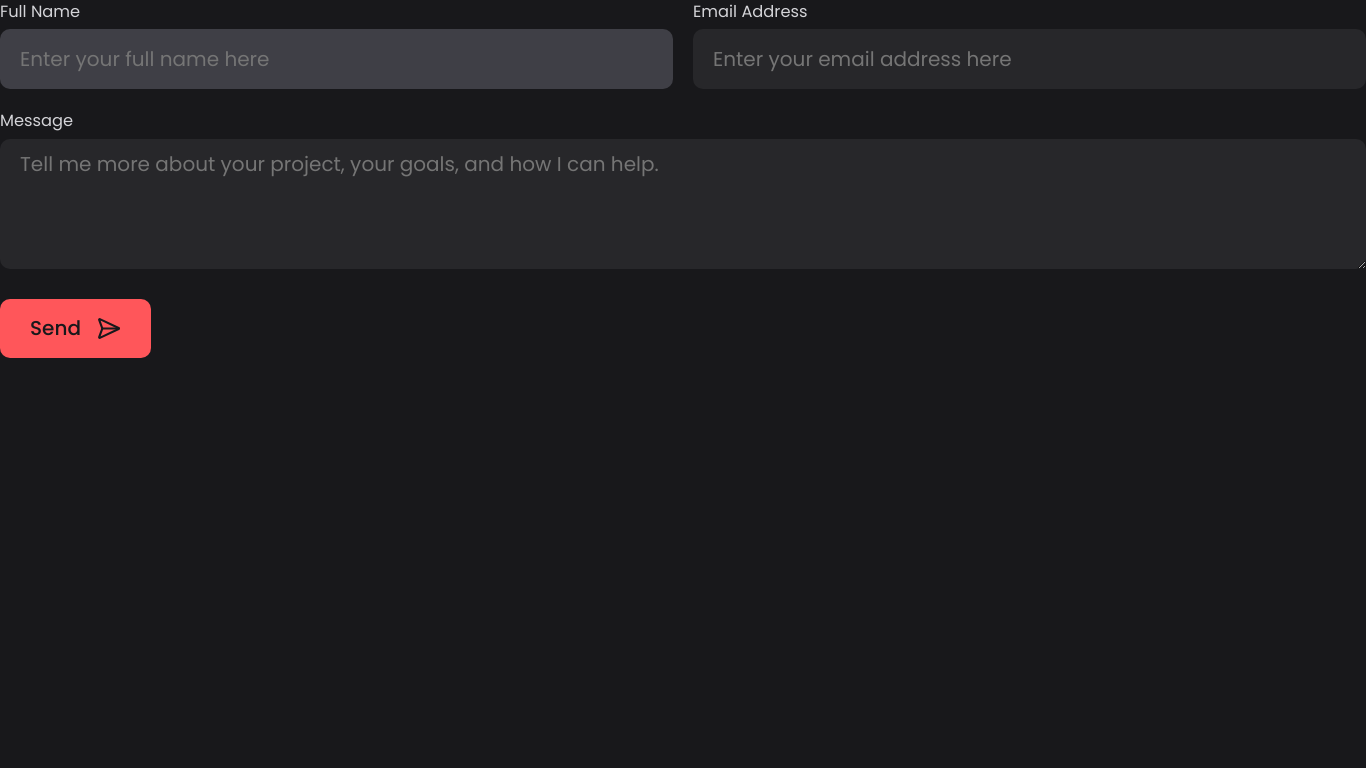
it: <MessageForm/> › shows error banner after failed submission
The image size is (1366, 768).
Type "John Doe" into the field labelled "Full Name".
click(336, 59); type("John Doe")  # box left=0, top=29, right=673, bottom=89
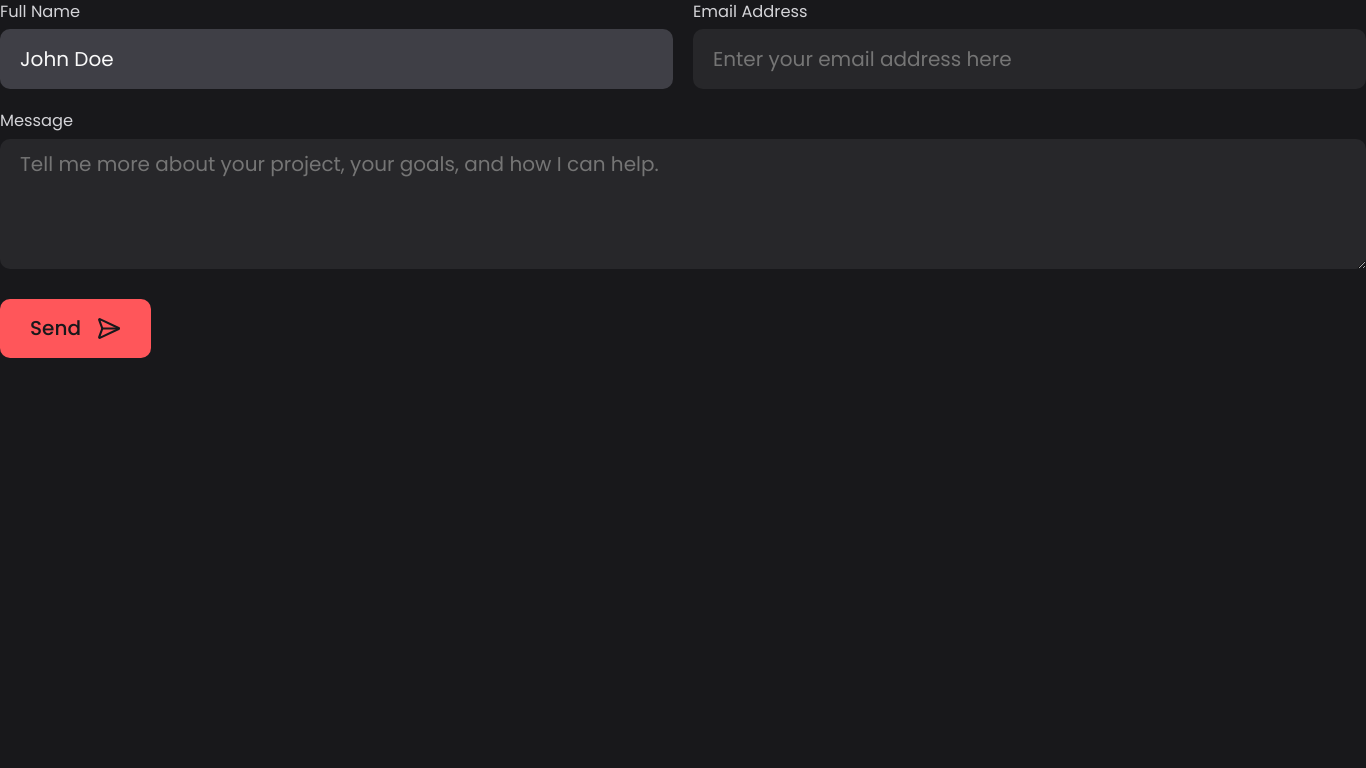
Type "john@example.com" into the field labelled "Email Address".
click(1030, 59); type("john@example.com")  # box left=693, top=29, right=1365, bottom=89
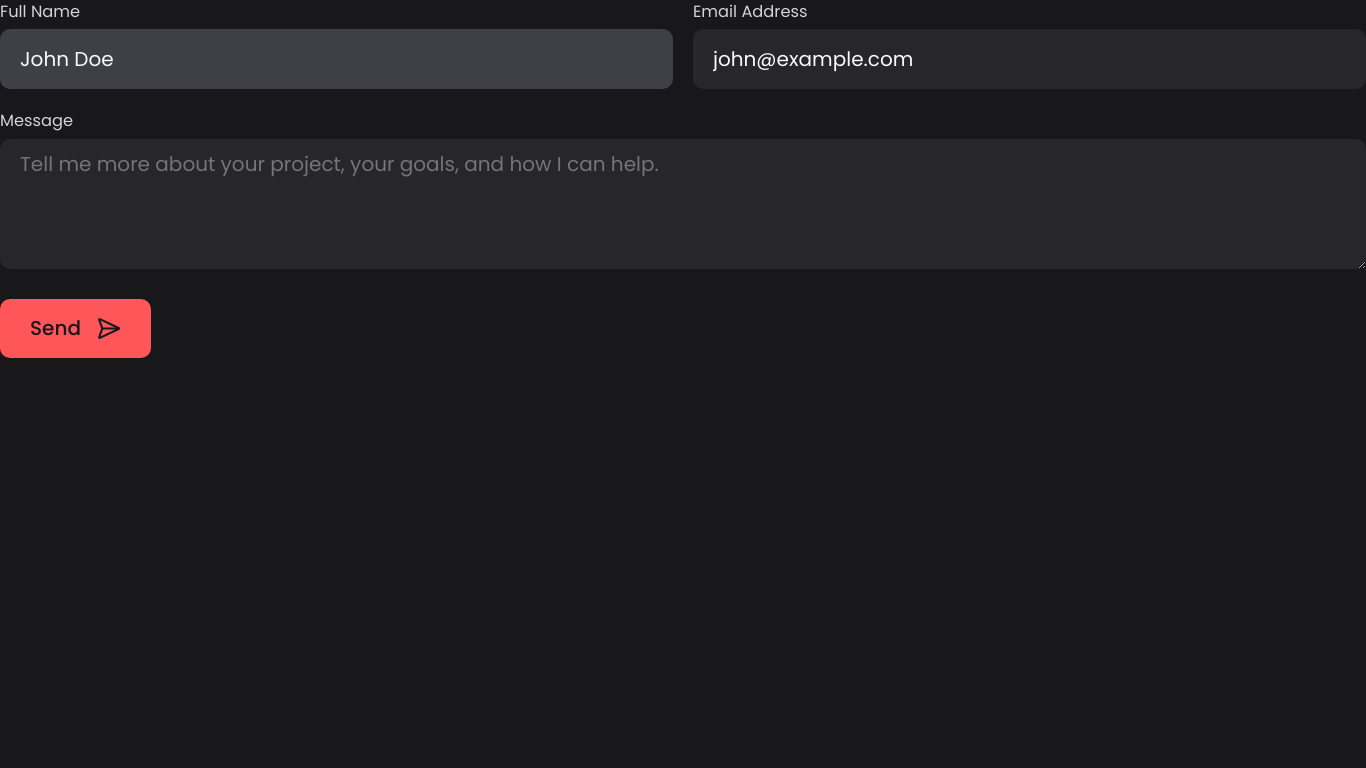
Replace the text in the text box labelled "Message" with "Hello, world!" at coordinates (683, 204), box left=0, top=139, right=1365, bottom=269
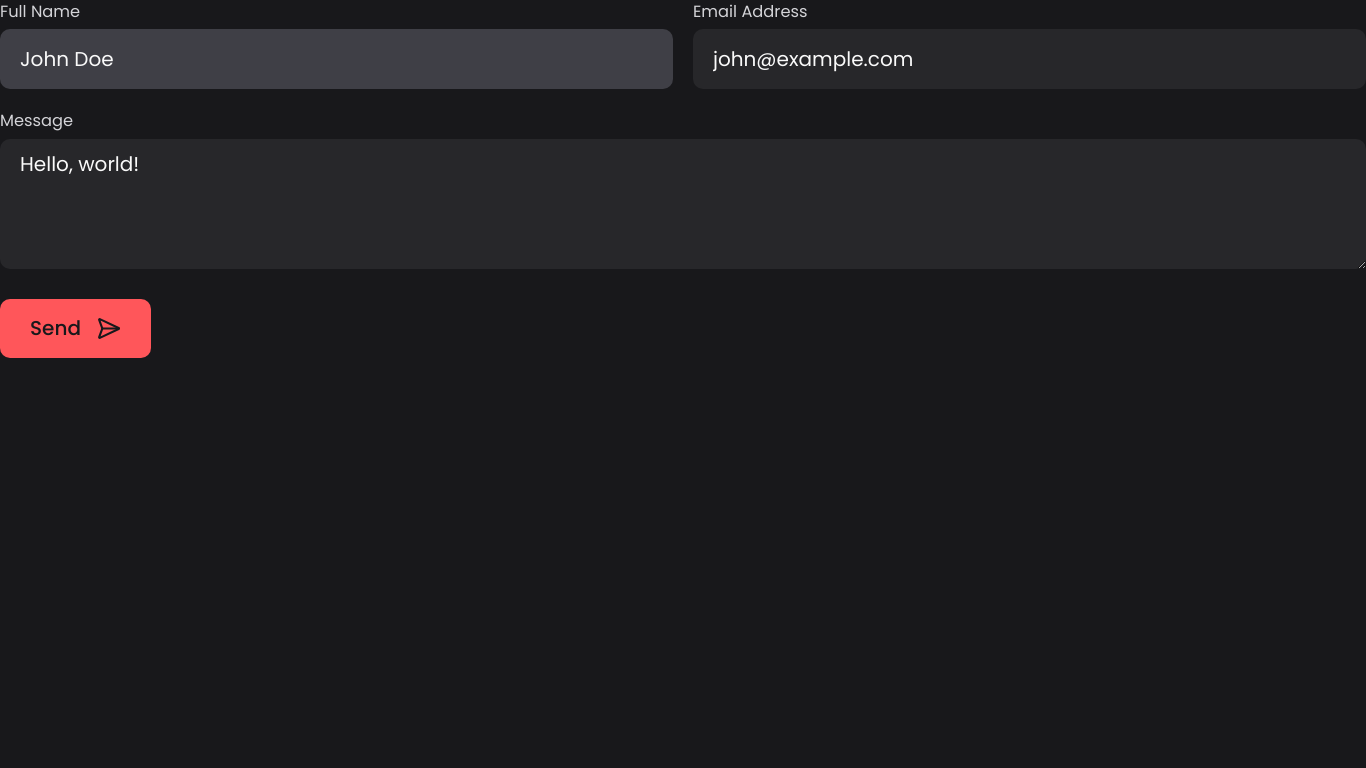
Click the button "Send".
click(76, 328)  # box left=0, top=299, right=151, bottom=358
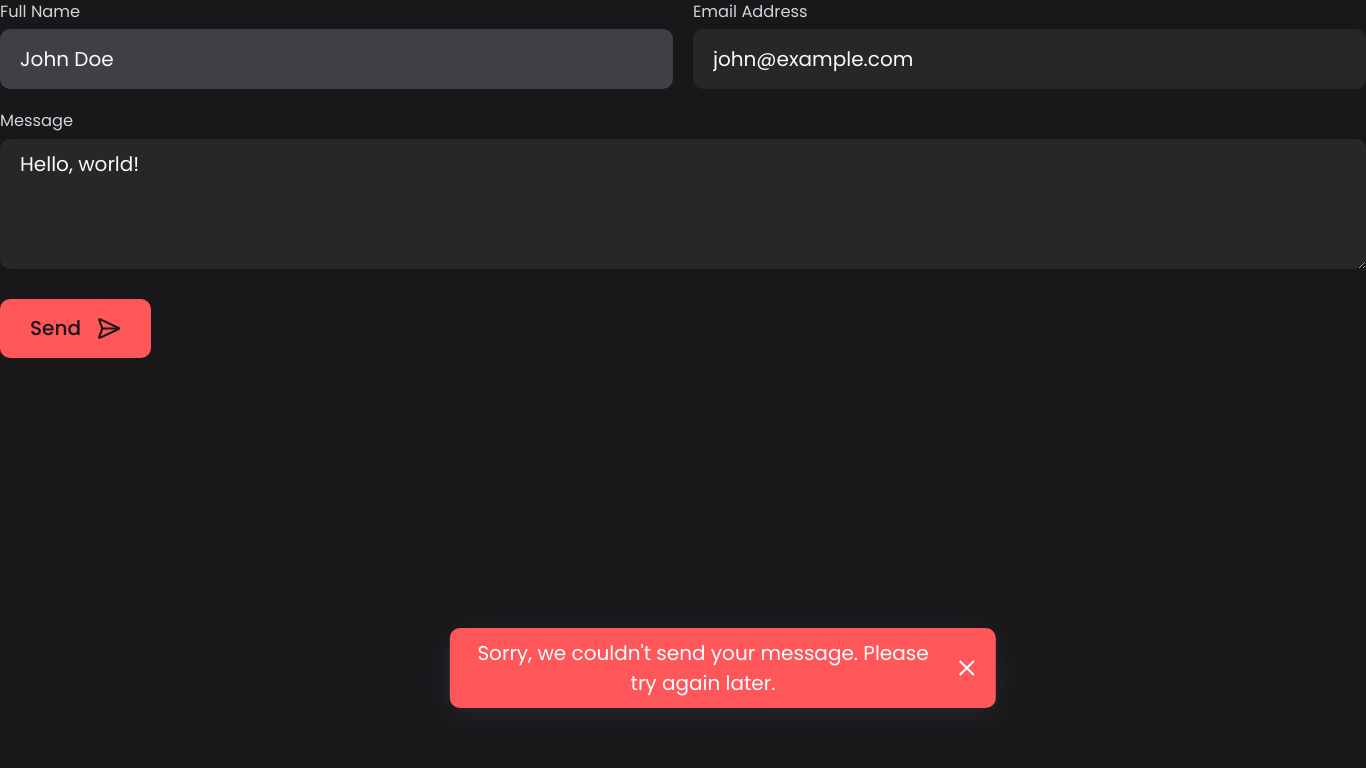
Result: the dialog with test id "banner" is shown at left=450, top=628, right=996, bottom=708
Result: the dialog with test id "banner" reads "Sorry, we couldn't send your message. Please try again later." at left=477, top=639, right=929, bottom=697
